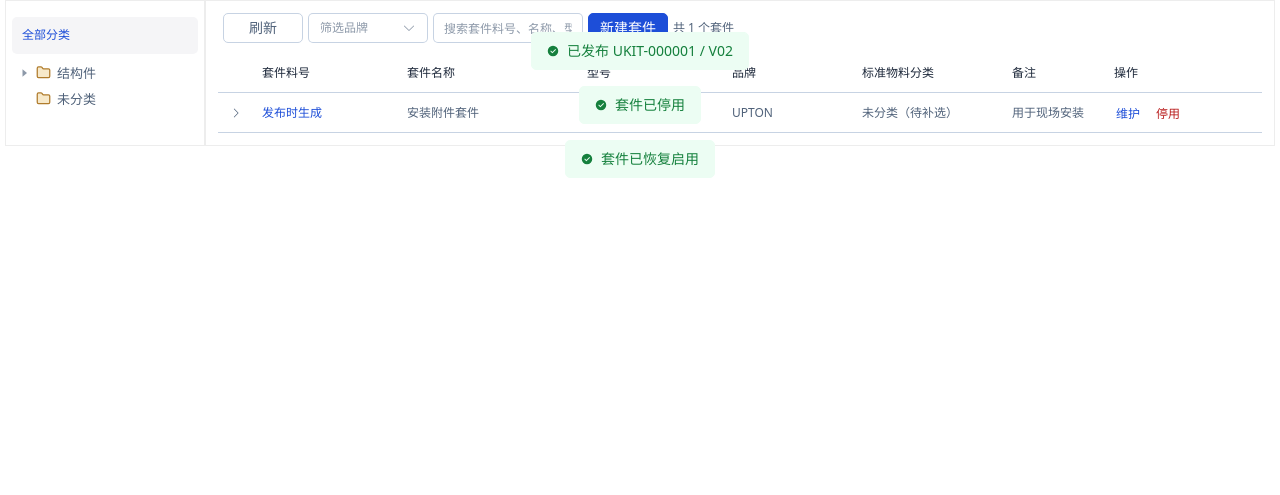
Test: EngineeringKitLibrary › 识别实际接口的数字草稿状态，保留手动型号并在发布后显示已发布
Click the button "维护" at (1128, 114), box x1=1114 y1=106 x2=1142 y2=122
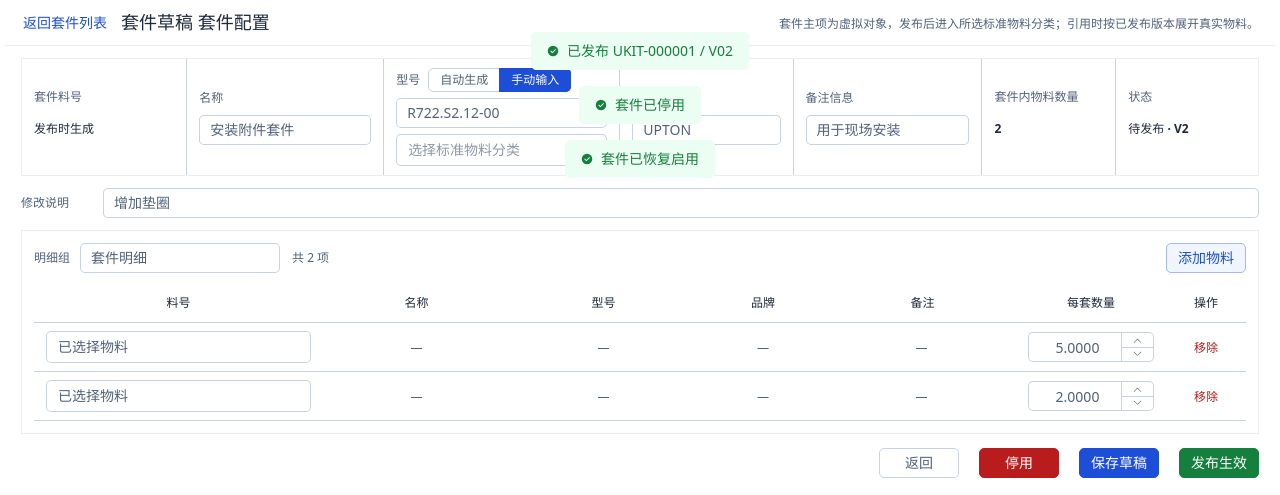
Now the field with placeholder "请输入套件型号" below "自动生成" holds "R722.S2.12-00", box x1=407 y1=99 x2=596 y2=127
Now the text with class "engineering-kit-group__count" reads "共 2 项", box x1=292 y1=249 x2=329 y2=266
Now the button "发布生效" is enabled
Click the button "发布生效" at (1219, 463), box x1=1179 y1=448 x2=1259 y2=478
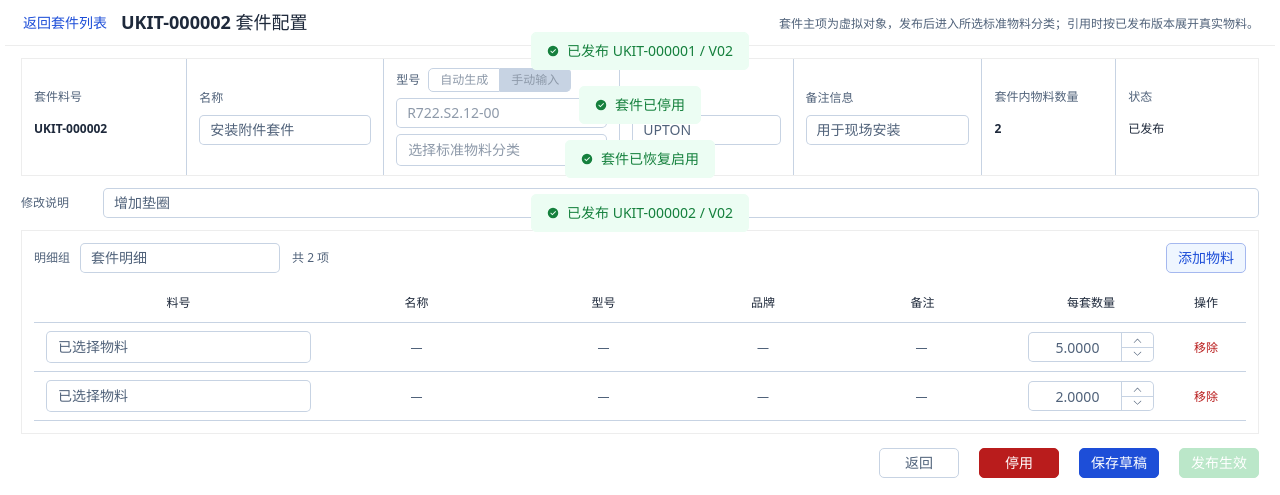
Now the element with class "engineering-kit-summary" shows "已发布", box x1=1128 y1=120 x2=1164 y2=137
Now the button "发布生效" is disabled, box x1=1179 y1=448 x2=1259 y2=478
